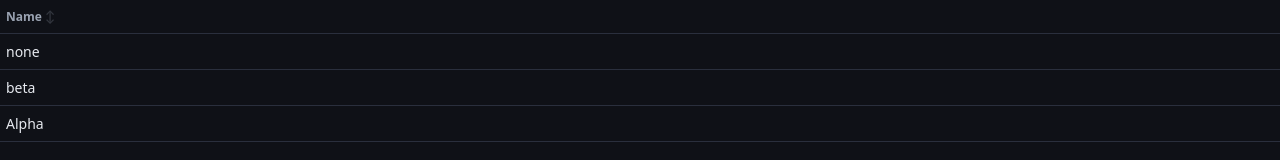
Scenario: sorts strings case-insensitively, flips direction, and keeps null values last
This screenshot has width=1280, height=160.
Click the button "Name ↕".
click(31, 16)  # box [6, 8, 55, 25]
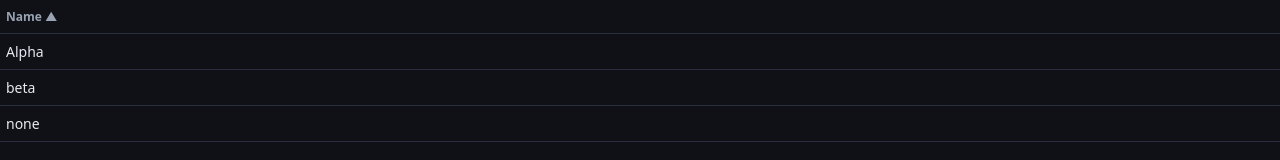
Expected: the cells read "Alpha", "beta", "none", in this order, [0, 34, 1279, 70]; [0, 70, 1279, 106]; [0, 106, 1279, 142]
Click the button "Name ▲".
click(32, 16)  # box [6, 8, 57, 25]
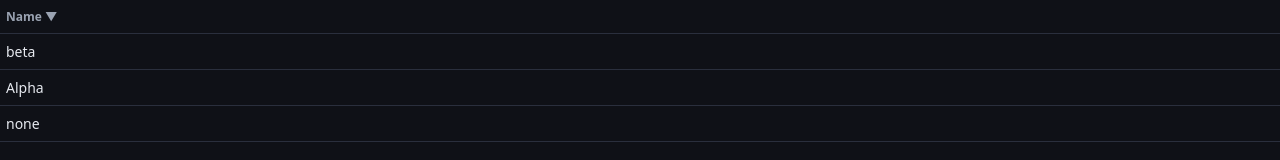
Expected: the cells read "beta", "Alpha", "none", in this order, [0, 34, 1279, 70]; [0, 70, 1279, 106]; [0, 106, 1279, 142]
